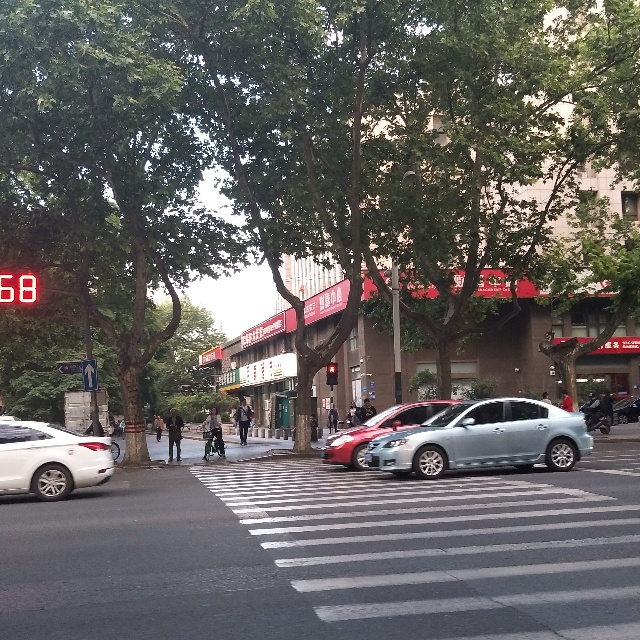straight: (81, 362, 99, 389)
